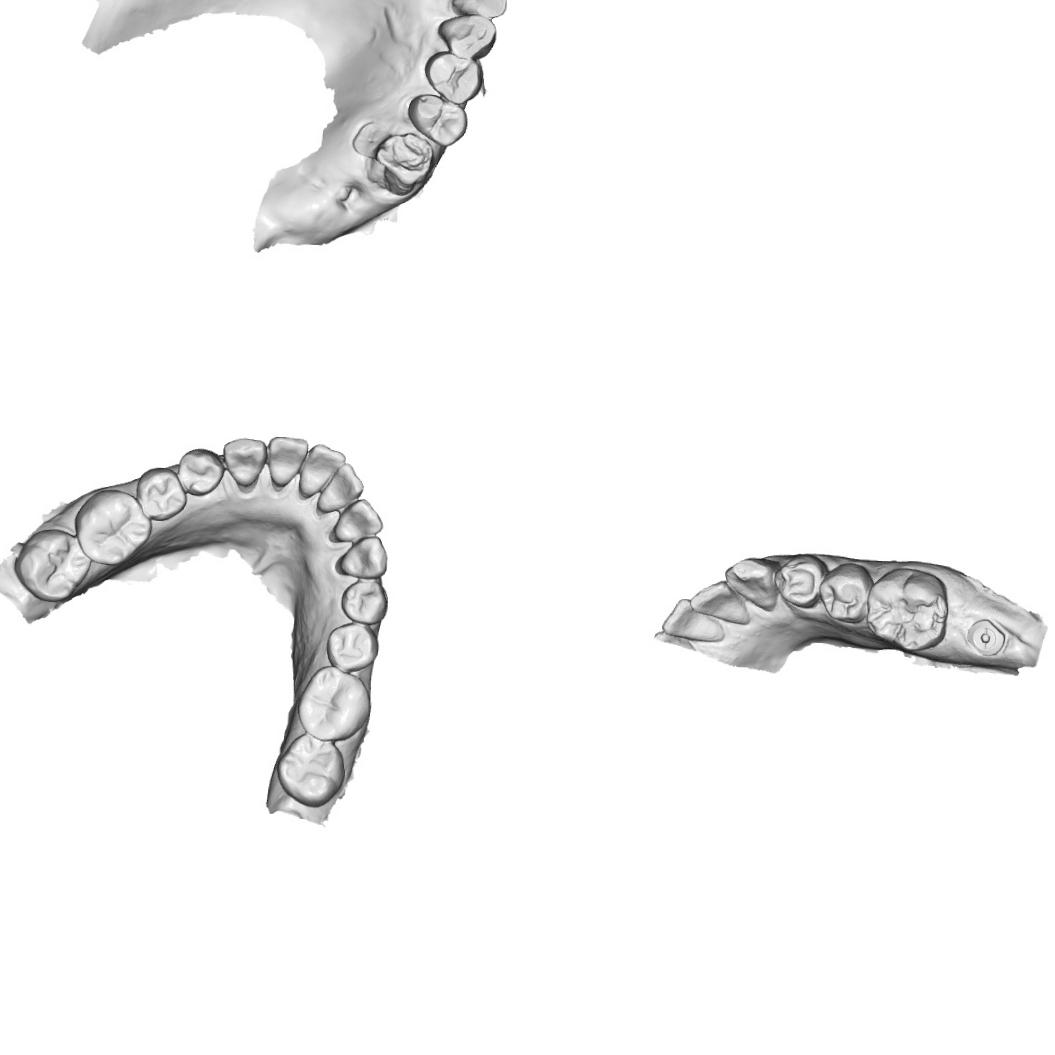canine: (722, 553, 780, 612), (436, 13, 498, 62), (334, 534, 389, 580), (221, 436, 268, 488)
implant_minus: (963, 616, 1010, 660)
incisor: (660, 596, 728, 644), (686, 580, 748, 627), (297, 442, 347, 500), (315, 461, 364, 516), (330, 496, 384, 544), (264, 435, 310, 488), (448, 0, 508, 20)
molar: (866, 568, 948, 654), (72, 486, 154, 568), (12, 526, 94, 604), (294, 664, 372, 743), (275, 732, 347, 808)
premolar: (423, 48, 485, 106), (406, 92, 470, 148), (820, 562, 871, 625), (325, 620, 380, 674), (133, 466, 186, 522), (774, 551, 824, 608), (176, 446, 226, 497), (338, 578, 389, 624)
